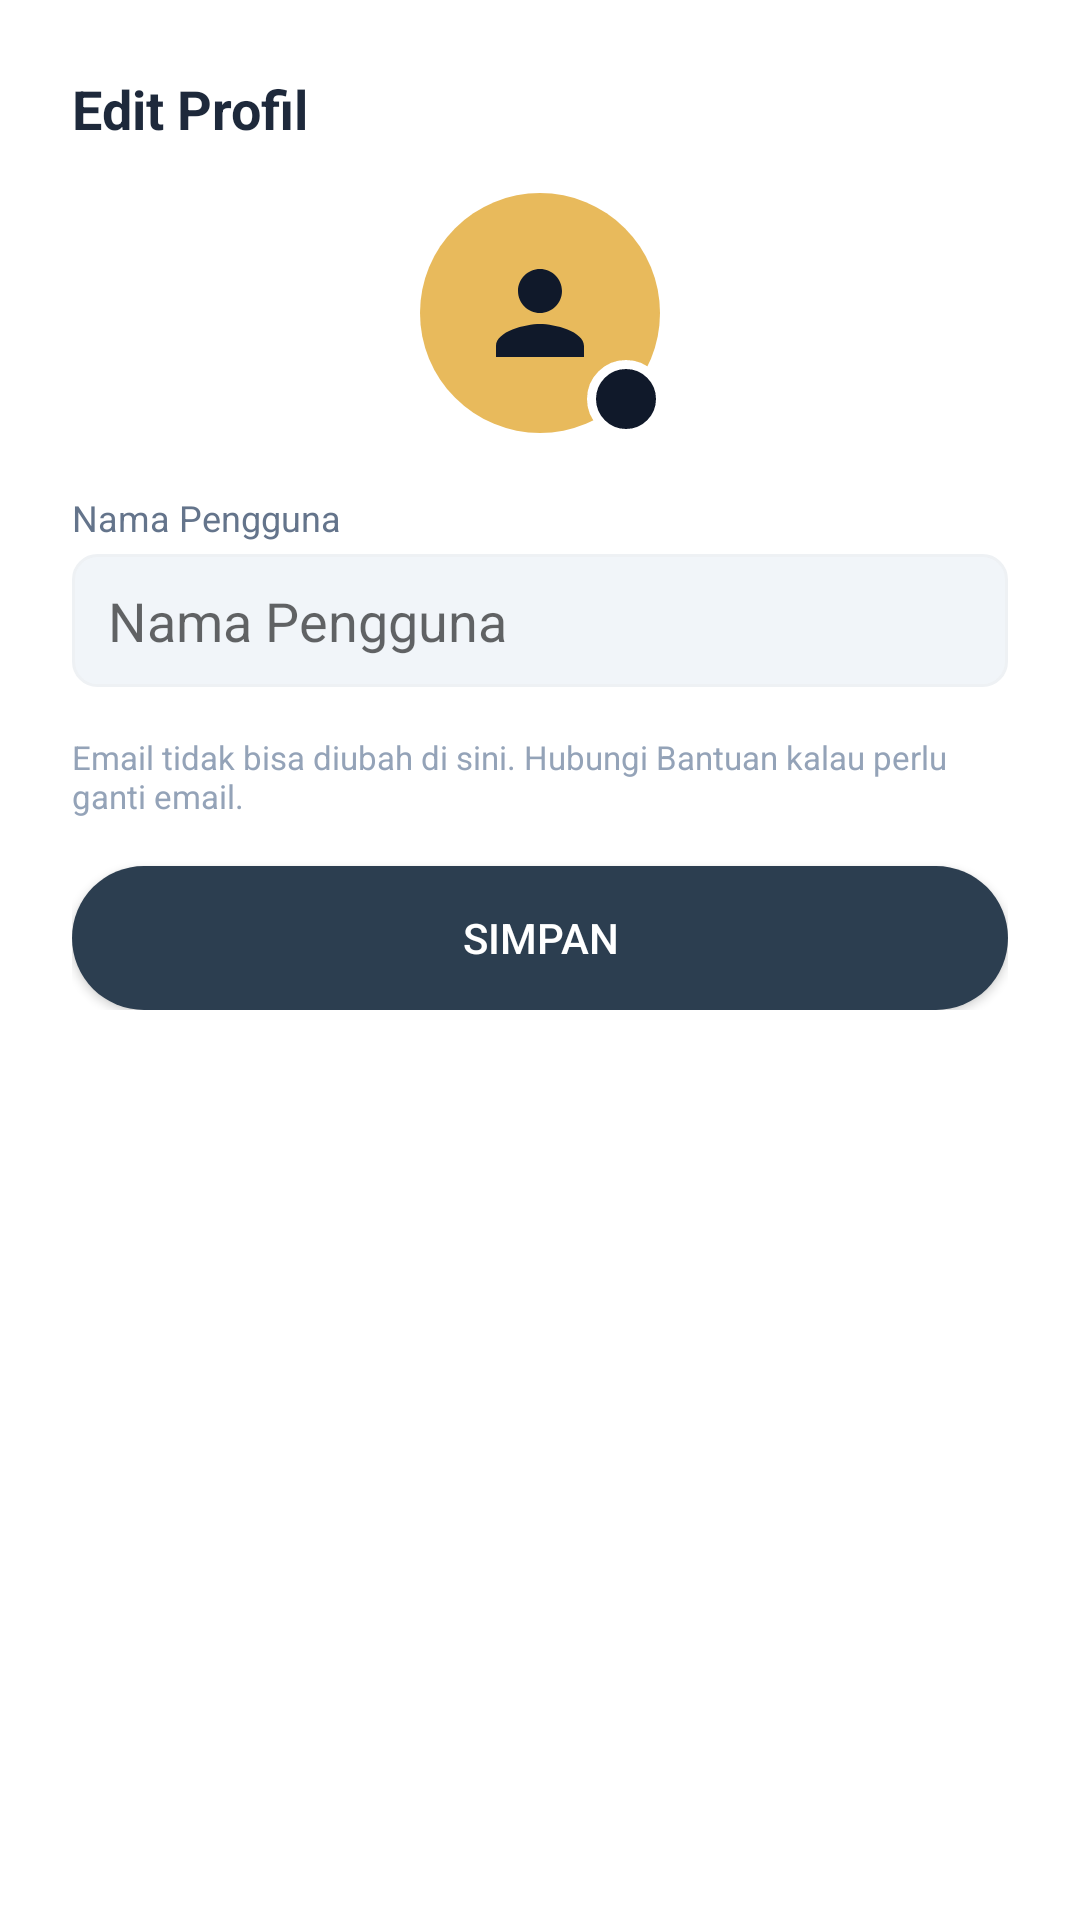

Named icons in this screenshot (1080x1920) and their bounding boxes, (x1, y1, x2, y2):
person: (420, 193, 660, 433)
